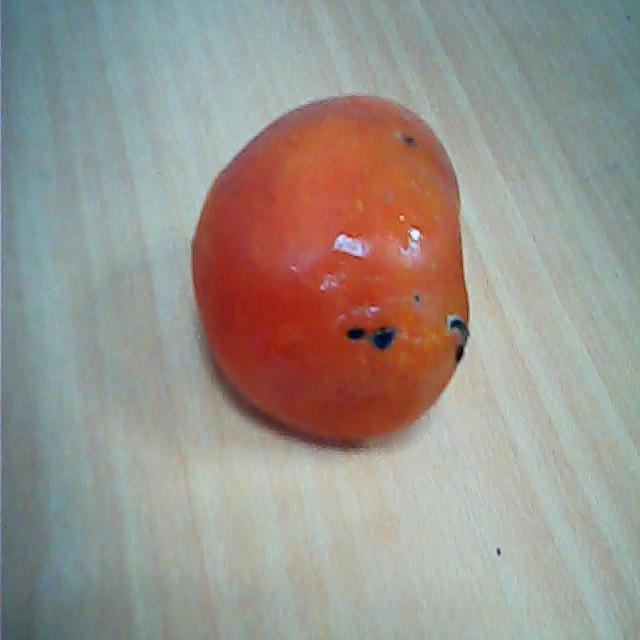defectuoso: (190, 80, 471, 446)
